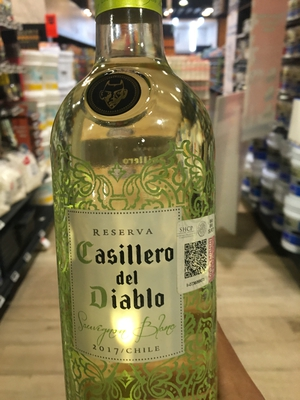casillero del diablo sauvignon blanc: (47, 9, 228, 400)
